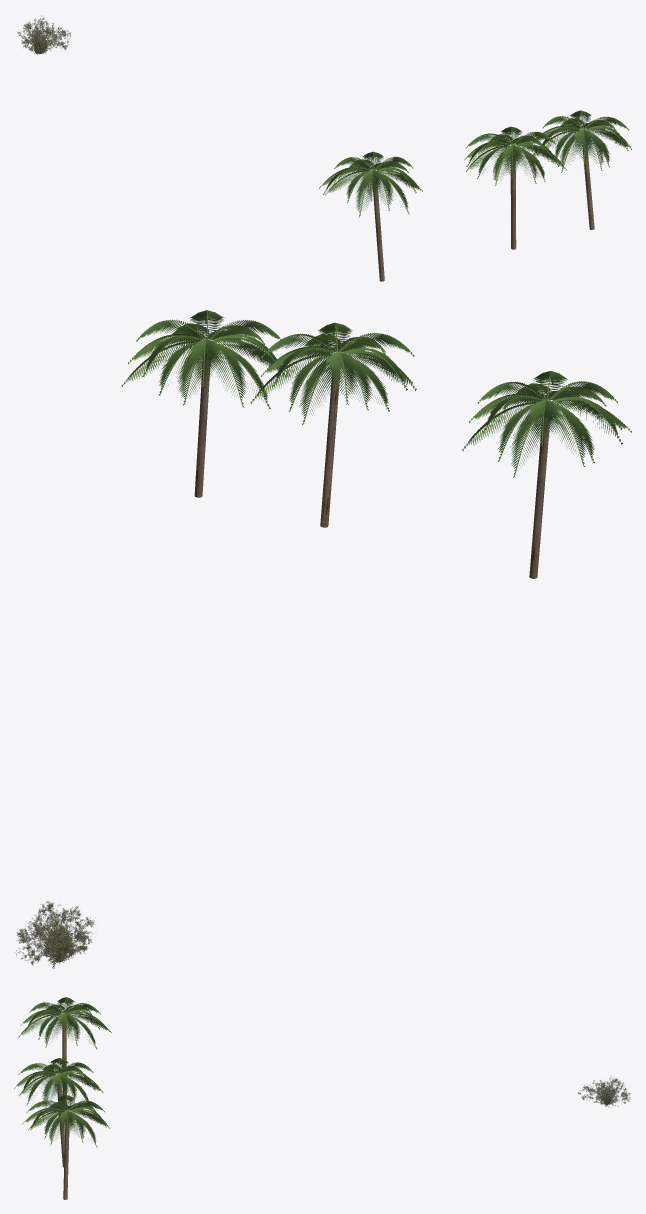
The model's file is plantas.glb.
3 renders of one model, top to bottom at view 1: azimuth 30°, elevation 25°; view 2: azimuth 150°, elevation 25°; view 3: azimuth 270°, elevation 25°, orthographic. The views are drawn at different scales.
Visible parts, largest first — view 1: Palmera frondas, Palmera frondas.002, Palmera frondas.001, especie_searsia_burchellii_large, Palmera tronco, Palmera tronco.001, Palmera tronco.002, especie_searsia_burchellii_medium; view 2: Palmera frondas.001, Palmera frondas, Palmera frondas.002, especie_searsia_burchellii_large, Palmera tronco.002, Palmera tronco, Palmera tronco.001, especie_searsia_burchellii_medium; view 3: Palmera frondas.001, Palmera frondas, Palmera frondas.002, especie_searsia_burchellii_large, Palmera tronco.001.
Part boxes in pixels (x1,y1,x2,y2): Palmera frondas: (319,151,422,217); Palmera frondas.002: (464,126,566,185); Palmera frondas.001: (531,110,631,172); especie_searsia_burchellii_large: (17,15,70,53); Palmera tronco: (373,184,384,281); Palmera tronco.001: (582,141,594,229); Palmera tronco.002: (510,145,516,249); especie_searsia_burchellii_medium: (22,22,59,51); Palmera frondas.001: (121,310,289,409); Palmera frondas: (462,371,631,477); Palmera frondas.002: (250,322,416,424); especie_searsia_burchellii_large: (14,901,94,965); Palmera tronco.002: (320,353,340,527); Palmera tronco: (529,413,549,578); Palmera tronco.001: (194,357,210,497); especie_searsia_burchellii_medium: (31,915,88,960); Palmera frondas.001: (22,1094,109,1147); Palmera frondas: (17,997,111,1049); Palmera frondas.002: (14,1058,103,1107); especie_searsia_burchellii_large: (578,1076,630,1106); Palmera tronco.001: (63,1119,69,1199).
Bounding box in the file's own units: 27.56 × 10.58 × 57.
7 materials, 6 textured.
